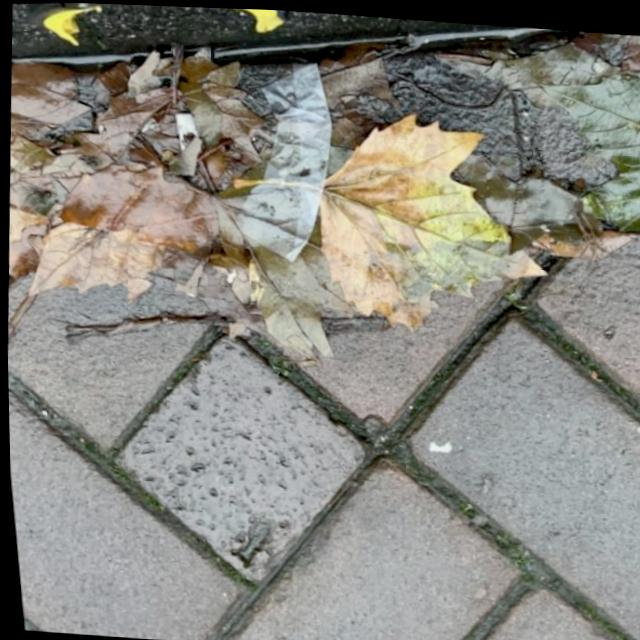Paper: (213, 47, 337, 267)
